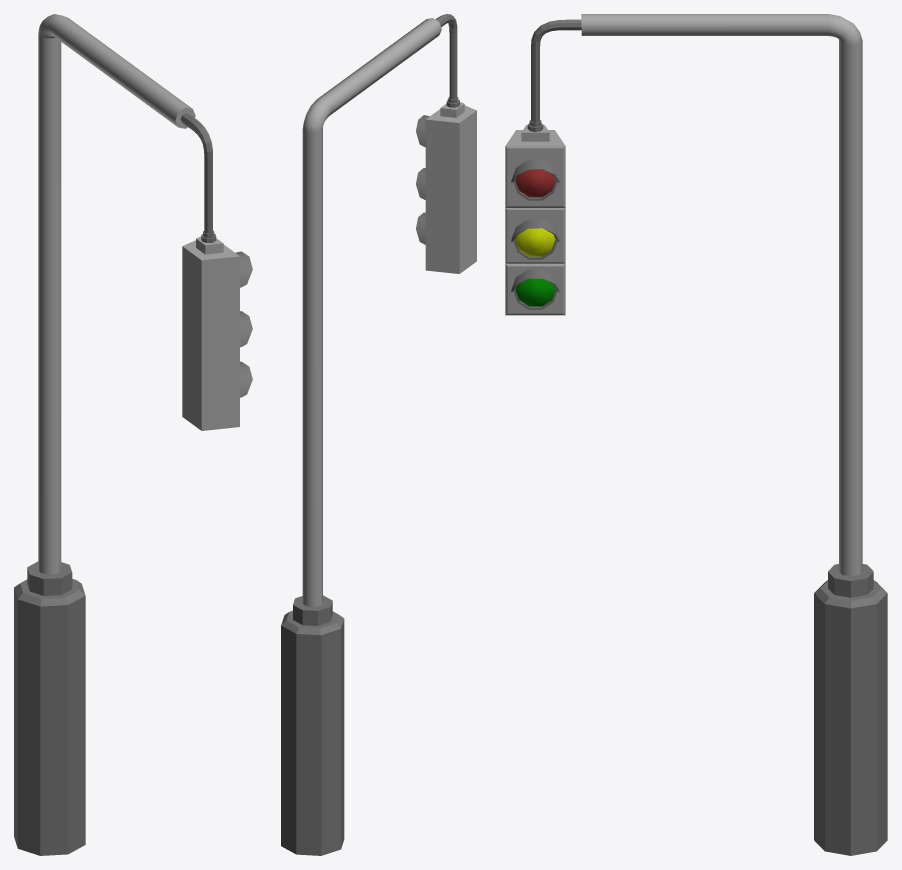
Rendered from Svetofor.fbx.
The picture shows the model from 3 angles, left to right: view 1: azimuth 30°, elevation 25°; view 2: azimuth 150°, elevation 25°; view 3: azimuth 270°, elevation 25°; orthographic projection. The views are drawn at different scales.
Parts seen in each view (by area): view 1: Svetofor; view 2: Svetofor; view 3: Svetofor.
Part boxes in pixels (box(x1,y1,x2,y2)): Svetofor: box(14, 14, 252, 855); Svetofor: box(281, 14, 476, 855); Svetofor: box(505, 14, 887, 855).
Size of the model in its own units: 0.6232 by 7.18 by 3.01.
